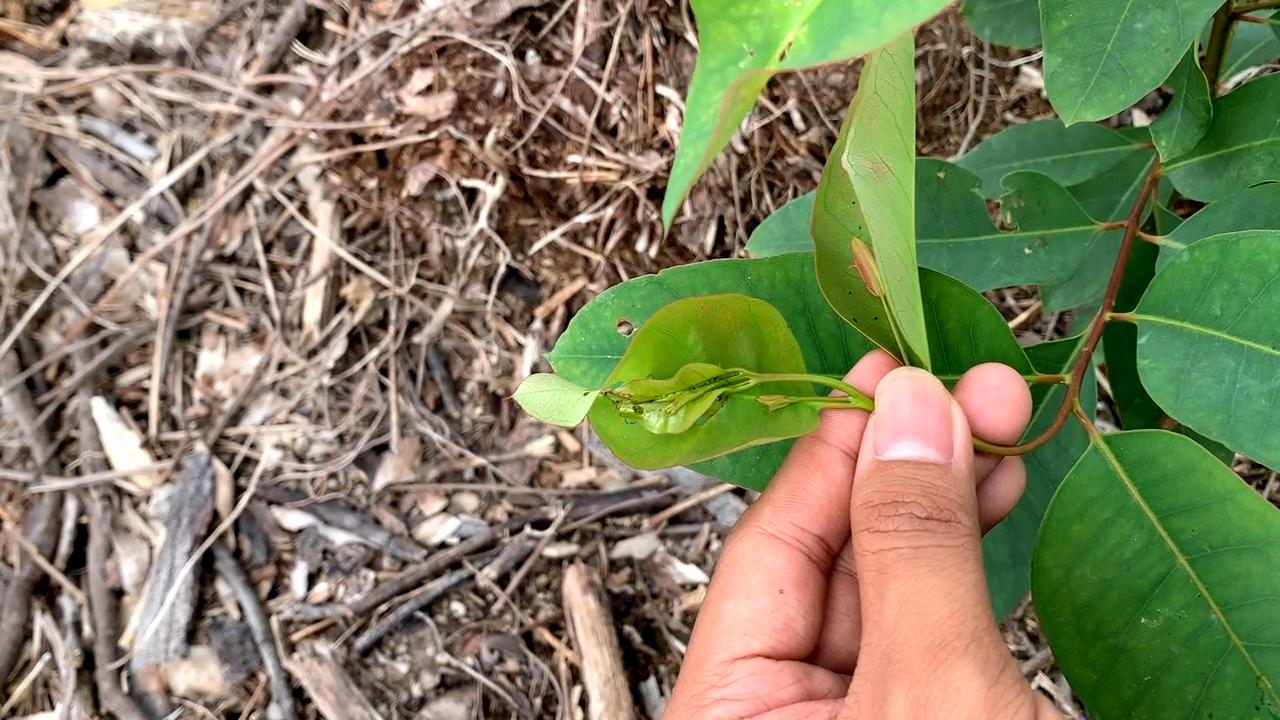Leaf Roller - Leaf: (503, 298, 817, 478)
